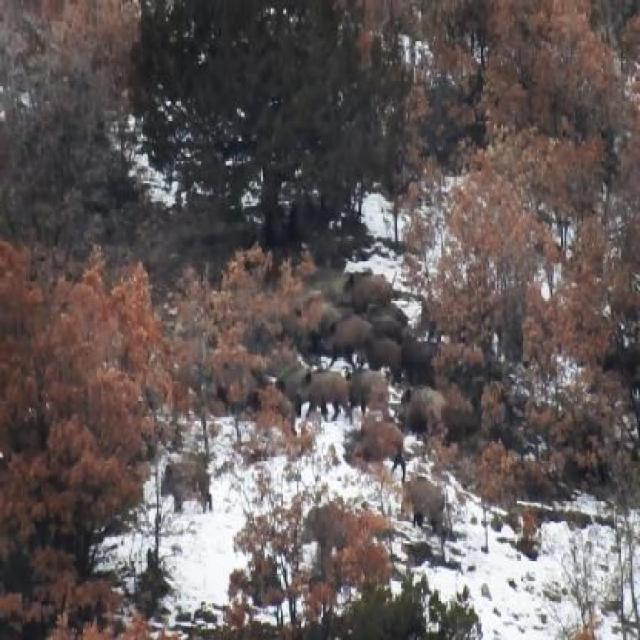pig: (396, 368, 462, 446), (346, 363, 403, 434), (322, 297, 378, 363), (334, 262, 393, 324), (300, 364, 355, 430), (276, 363, 310, 419)
